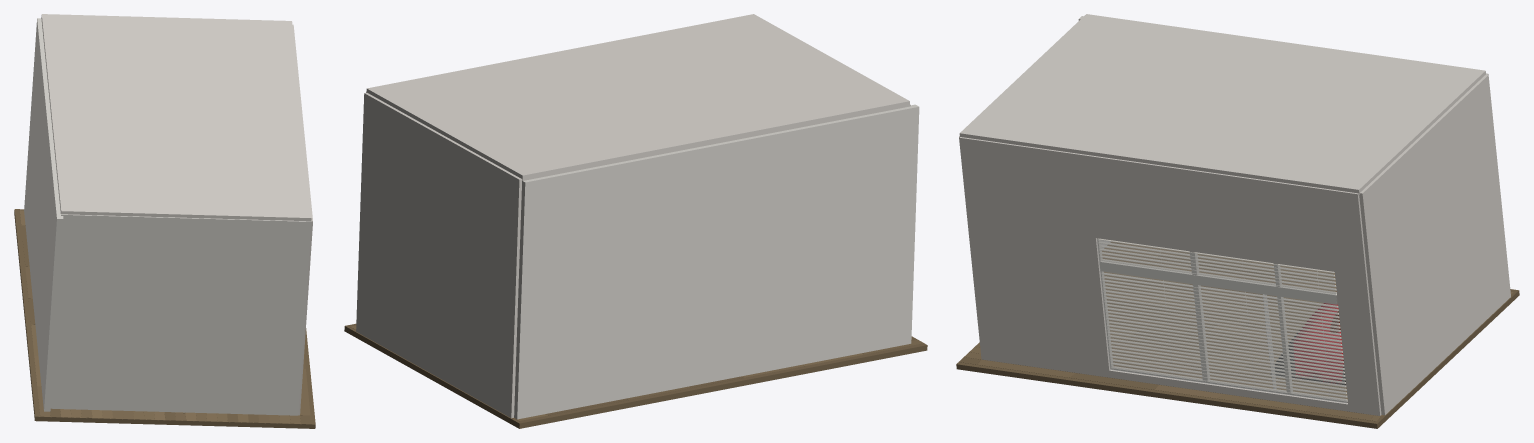
Rendered from scene-4-ours.glb.
3 renders of one model, left to right at view 1: azimuth 30°, elevation 25°; view 2: azimuth 150°, elevation 25°; view 3: azimuth 270°, elevation 25°, orthographic. The views are drawn at different scales.
Parts seen in each view (by area): view 1: obj_003, obj_002, obj_001, obj_006; view 2: obj_003, obj_002, obj_001; view 3: obj_002, obj_006, obj_007, obj_009, obj_001, obj_008, obj_013.
Boxes of the visible parts, x1=… form: obj_003: x1=24, y1=18, x2=311, y2=415; obj_002: x1=41, y1=14, x2=311, y2=221; obj_001: x1=14, y1=209, x2=315, y2=428; obj_006: x1=292, y1=24, x2=312, y2=415; obj_003: x1=514, y1=104, x2=919, y2=419; obj_002: x1=356, y1=14, x2=909, y2=418; obj_001: x1=344, y1=323, x2=927, y2=428; obj_002: x1=959, y1=14, x2=1510, y2=415; obj_006: x1=959, y1=137, x2=1381, y2=415; obj_007: x1=1097, y1=239, x2=1346, y2=402; obj_009: x1=1098, y1=238, x2=1347, y2=401; obj_001: x1=956, y1=242, x2=1519, y2=428; obj_008: x1=1097, y1=238, x2=1347, y2=402; obj_013: x1=1292, y1=303, x2=1343, y2=383.
Size of the model in its own units: 6.16 by 3.83 by 7.01.
